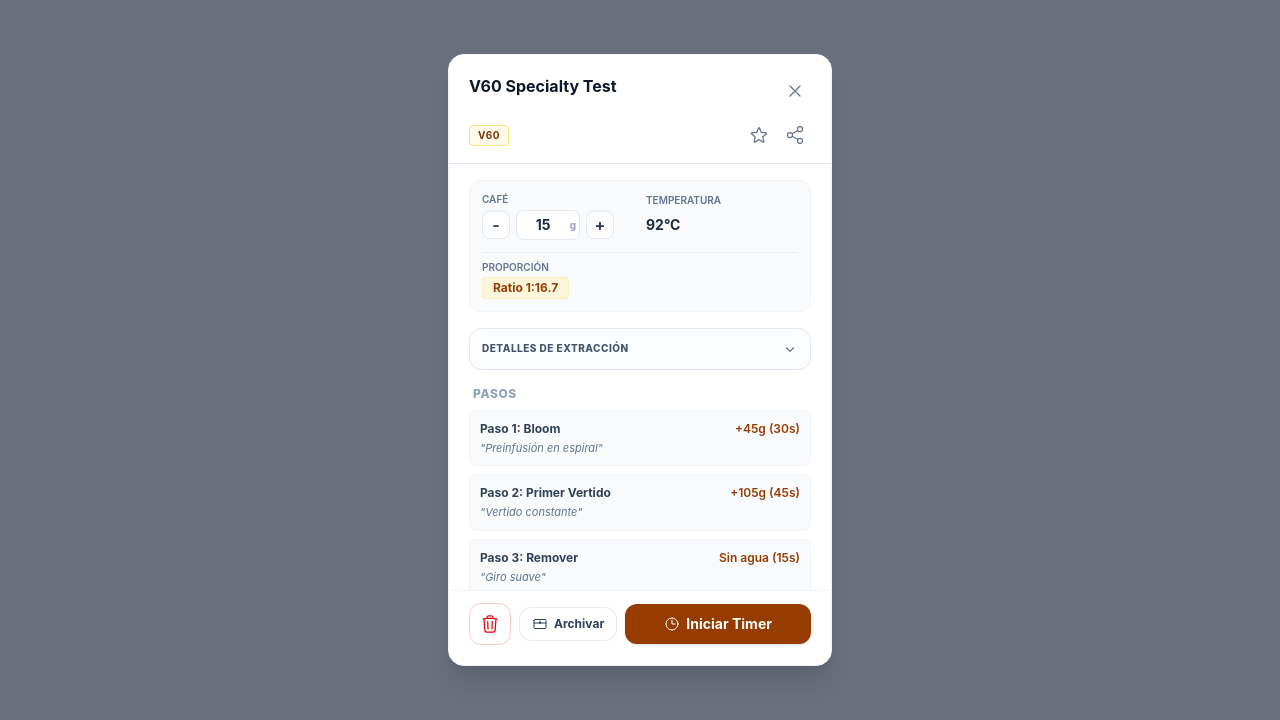
Test: Dynamic Ratio Calculator in RecipeSummaryModal › increments dose by 1g on clicking + button and updates steps water
This screenshot has width=1280, height=720.
Click the button named "Aumentar dosis de café" at (600, 225), box [586, 211, 614, 239]
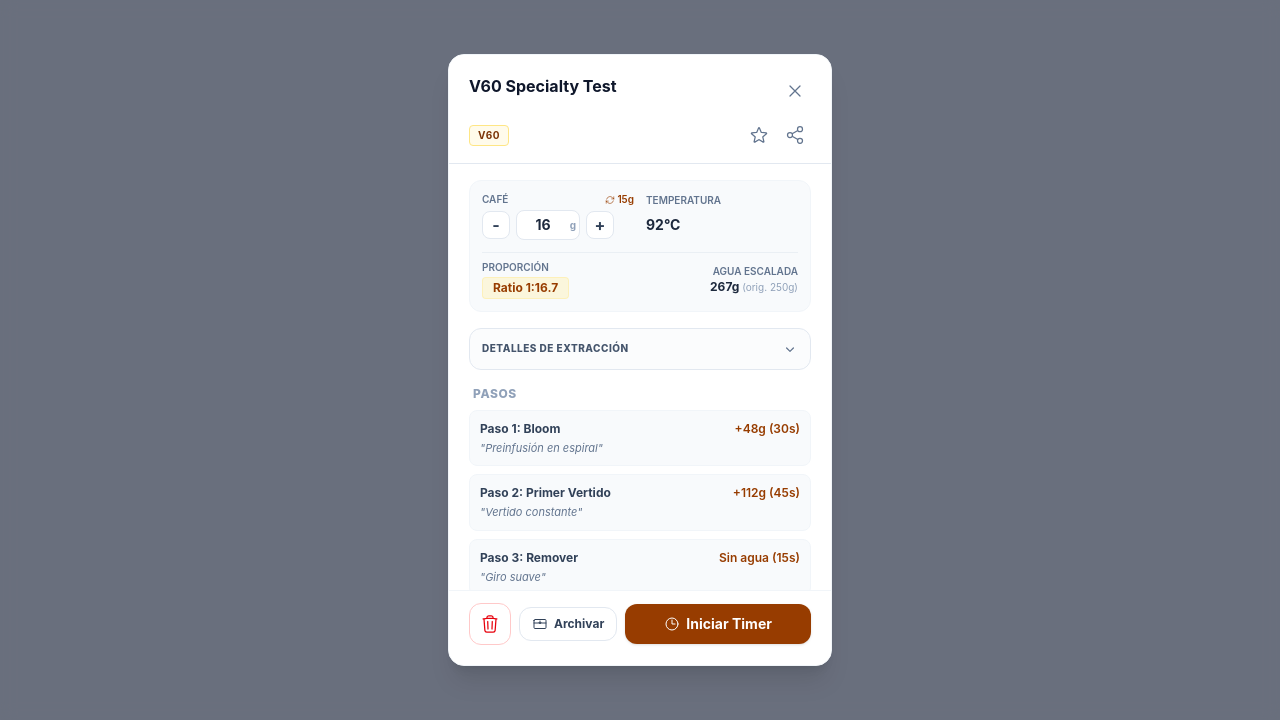
Result: the number field named "Dosis de café en gramos" holds "16" at [516, 210, 580, 240]
Result: the button named "Restablecer dosis original" is shown at [605, 193, 634, 206]
Result: the text "+48g (30s)" is shown at [735, 421, 800, 437]
